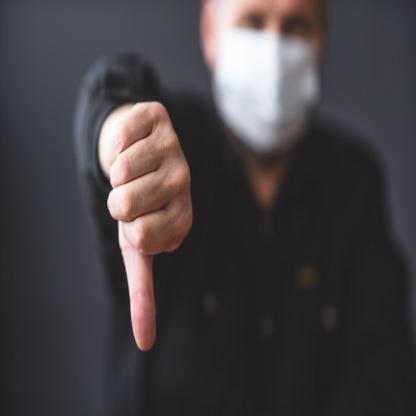thumb_down: (107, 98, 193, 355)
